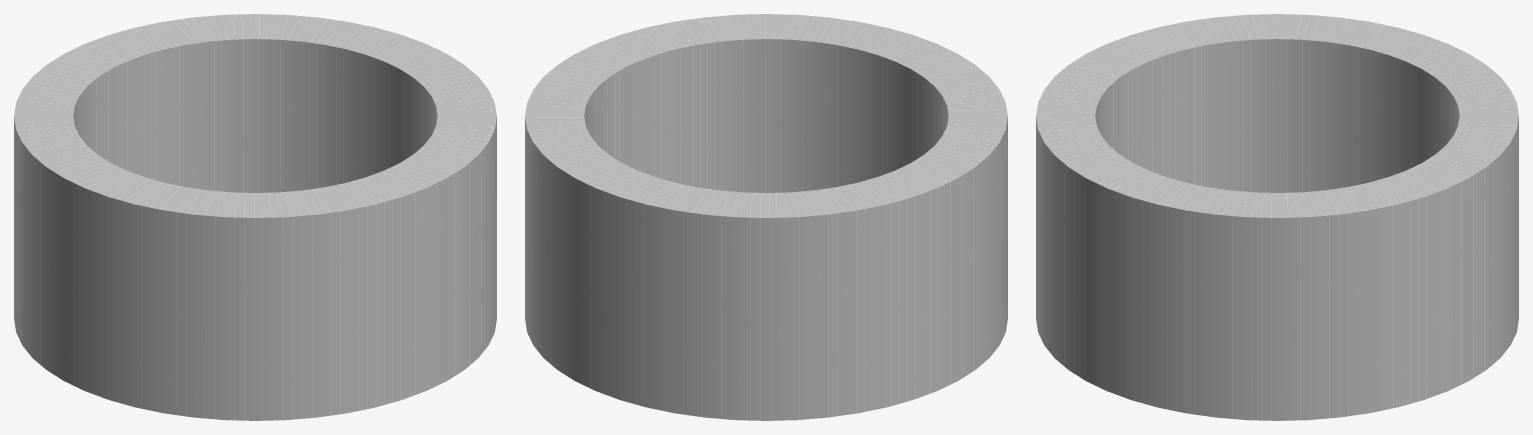
File: Collider_Water.fbx
3 views of the same model, side by side, from view 1: azimuth 30°, elevation 25°; view 2: azimuth 150°, elevation 25°; view 3: azimuth 270°, elevation 25° (orthographic).
Visible parts, largest first — view 1: Collider_Water; view 2: Collider_Water; view 3: Collider_Water.
Part boxes in pixels (box(x1,y1,x2,y2)): Collider_Water: box(14, 14, 496, 420); Collider_Water: box(525, 14, 1007, 420); Collider_Water: box(1036, 14, 1518, 420).
Bounding box in the file's own units: 4616 × 2140 × 4616.
Materials: 1 (1 with a texture image).
